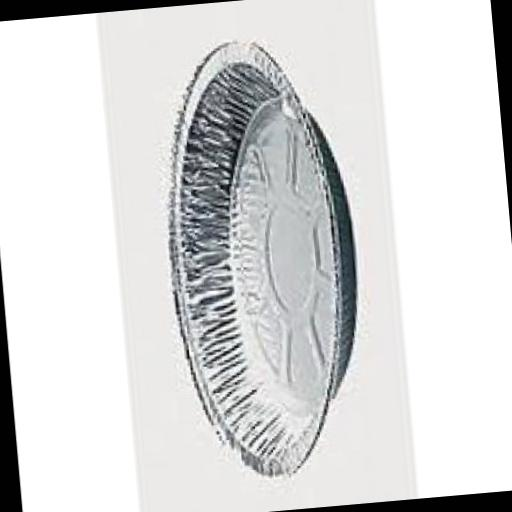metal: (142, 26, 370, 494)
